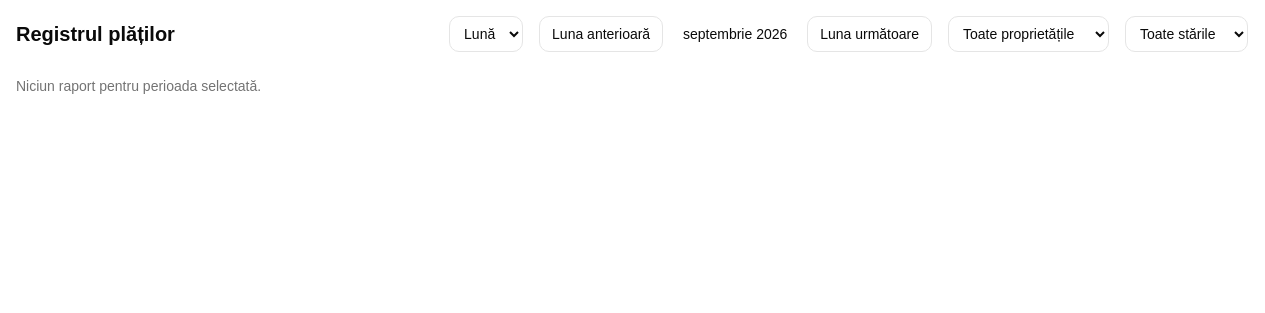
Test case: PaymentsLedgerPage › year mode footer totals (FR-PROP-12) › still outstanding comes from tenancies.currentBalance, never Σ(finalTotal − amountPaid) — the double-counting trap (SRS §6 line 821)
Select "An" in the dropdown named "Tip perioadă" at {"x": 486, "y": 34}, box [449,16,523,52]
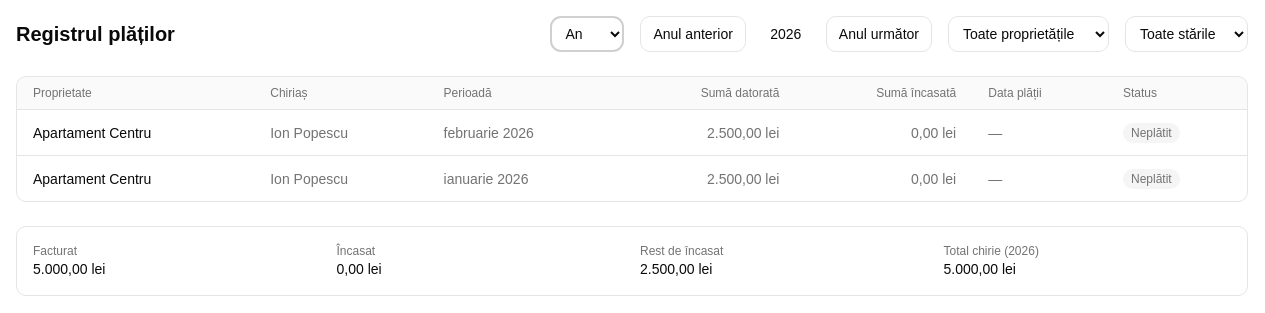
Result: the text "2.500,00 lei" below "Rest de încasat" is shown at [640,261,712,277]
